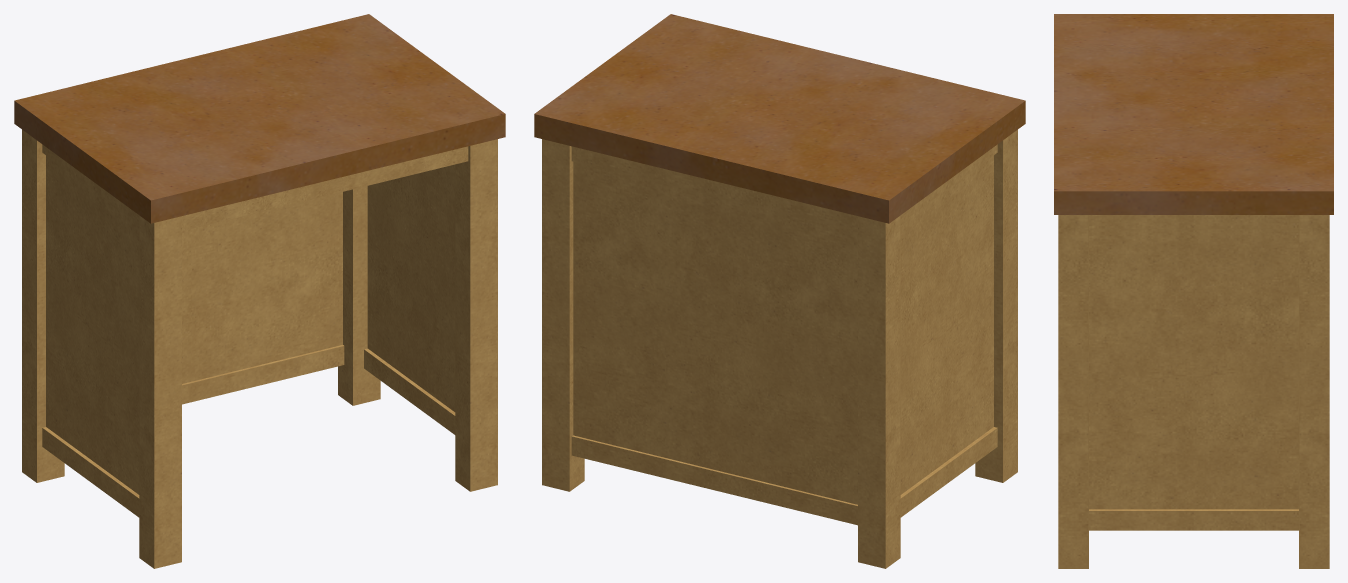
The model's file is ClassRoomTable_1.fbx.
3 views of the same model, side by side, from view 1: azimuth 30°, elevation 25°; view 2: azimuth 150°, elevation 25°; view 3: azimuth 270°, elevation 25° (orthographic). The views are drawn at different scales.
Parts seen in each view (by area): view 1: TeacherTable_1; view 2: TeacherTable_1; view 3: TeacherTable_1.
Boxes of the visible parts, x1,y1,x2,y2 form: TeacherTable_1: (14,14,505,568); TeacherTable_1: (534,14,1025,568); TeacherTable_1: (1054,14,1333,568).
Bounding box in the file's own units: 0.9 × 0.9 × 0.6.
